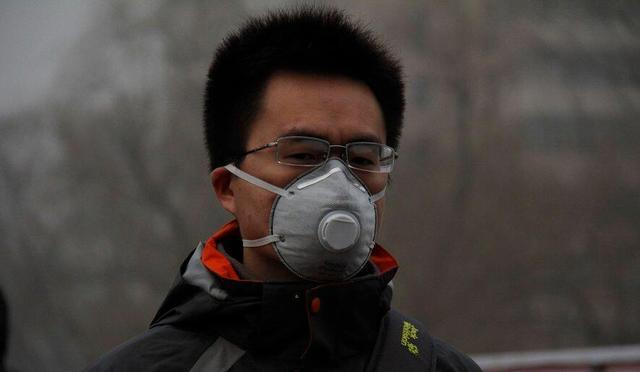face_mask: (250, 72, 396, 278)
